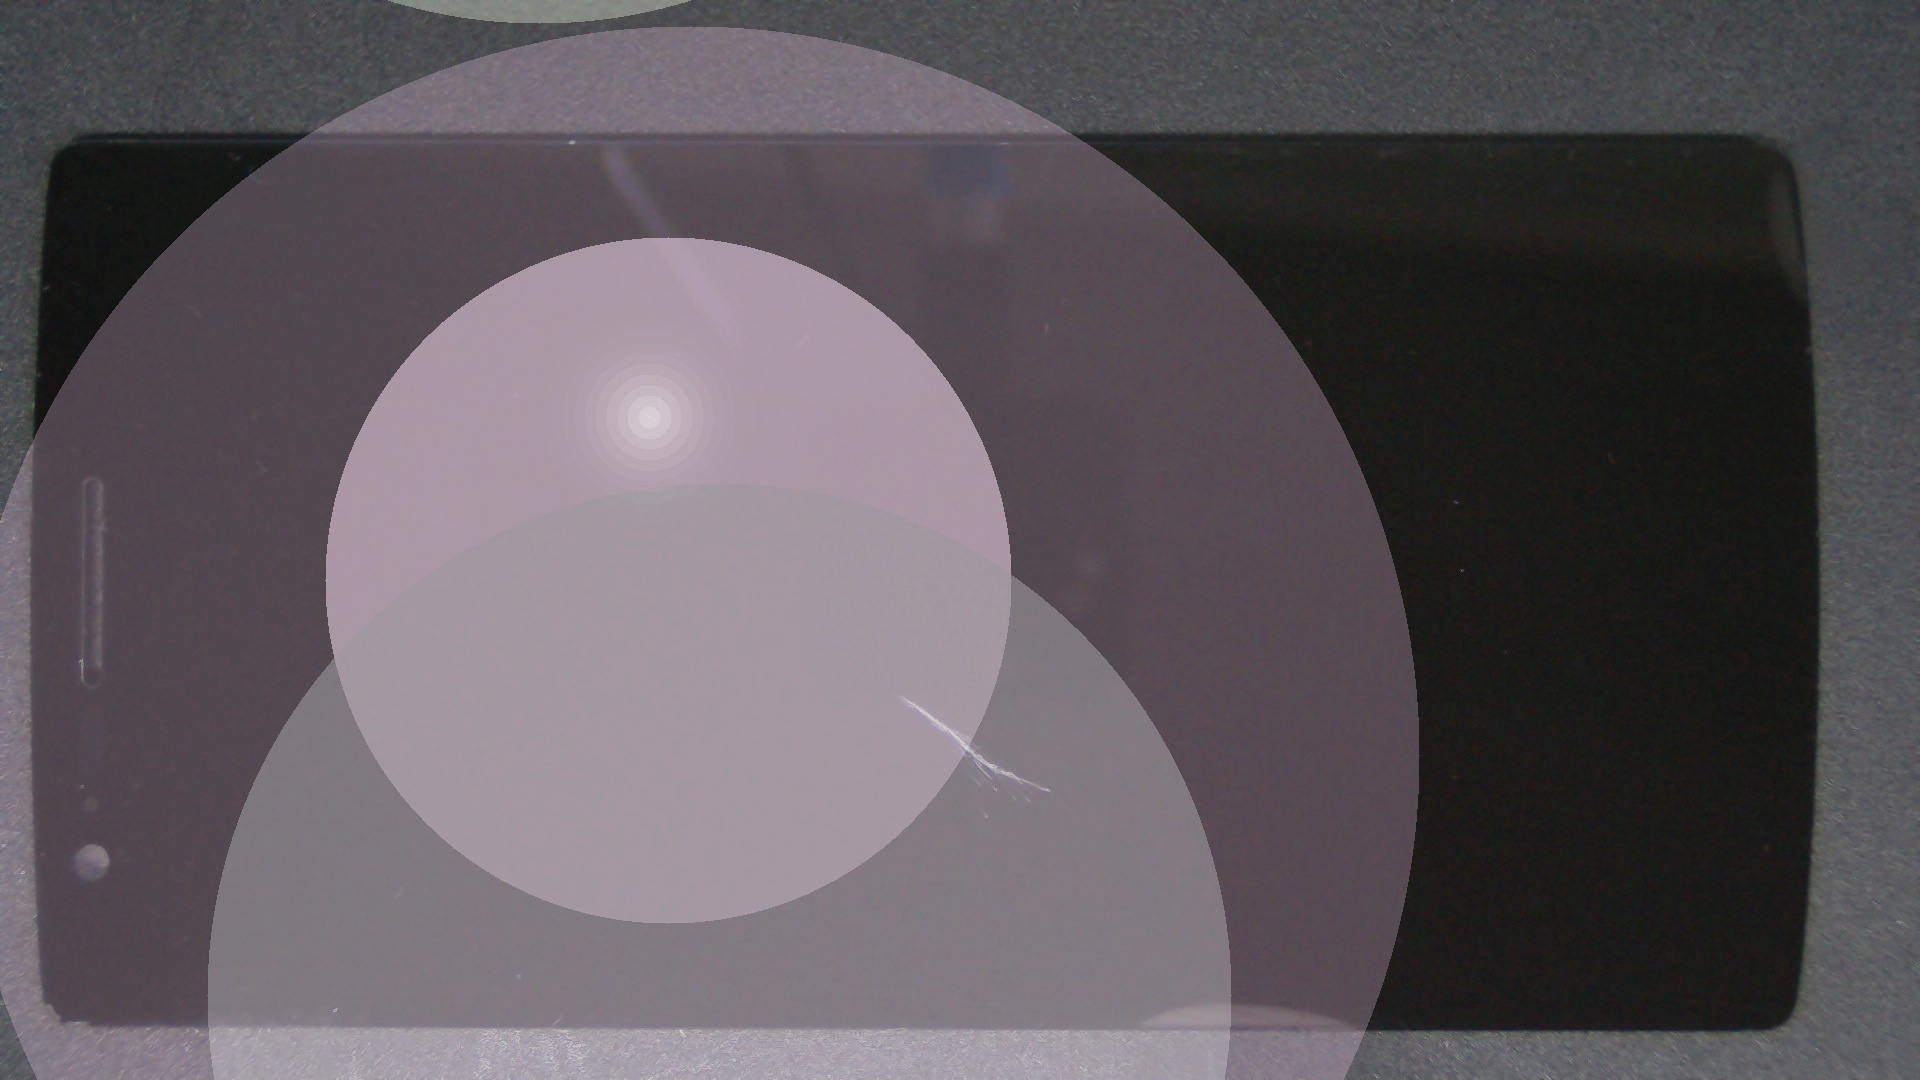oil: (450, 345, 1349, 1044)
